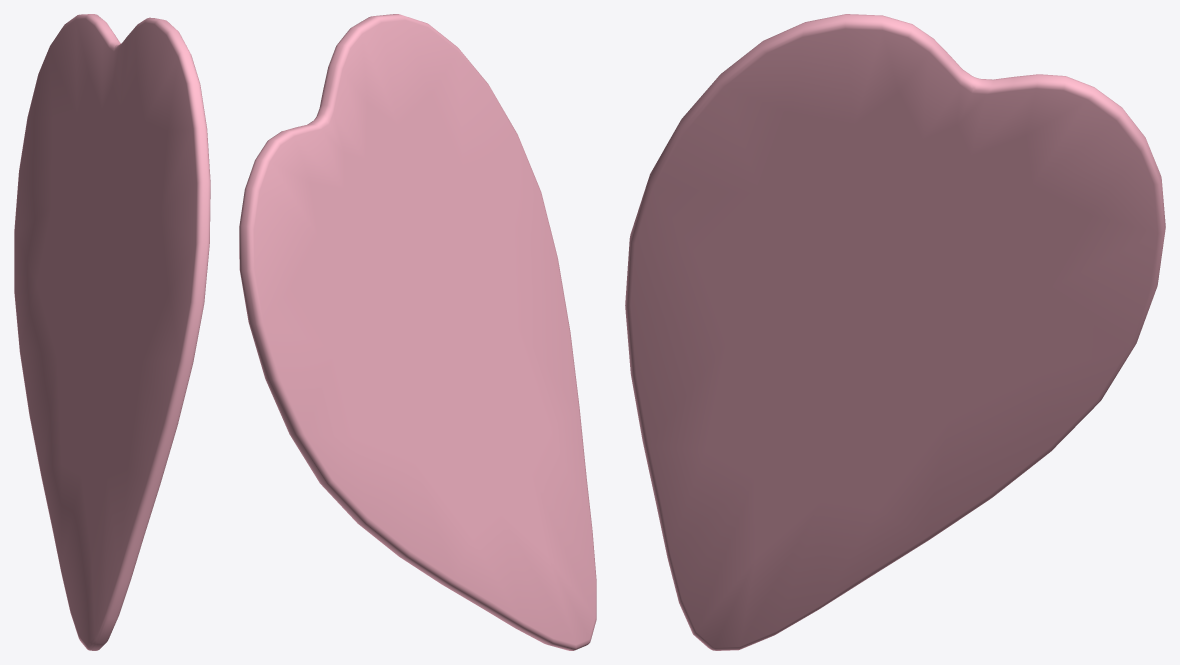
File: pinkFlower_0.glb
3 renders of one model, left to right at view 1: azimuth 30°, elevation 25°; view 2: azimuth 150°, elevation 25°; view 3: azimuth 270°, elevation 25°, orthographic. The views are drawn at different scales.
Visible parts, largest first — view 1: Petal_01_Sakura_Cleft.002; view 2: Petal_01_Sakura_Cleft.002; view 3: Petal_01_Sakura_Cleft.002.
Boxes of the visible parts, x1,y1,x2,y2 form: Petal_01_Sakura_Cleft.002: (14, 14, 210, 650); Petal_01_Sakura_Cleft.002: (239, 14, 596, 650); Petal_01_Sakura_Cleft.002: (625, 14, 1165, 650).
Size of the model in its own units: 0.6628 by 2.39 by 1.63.
